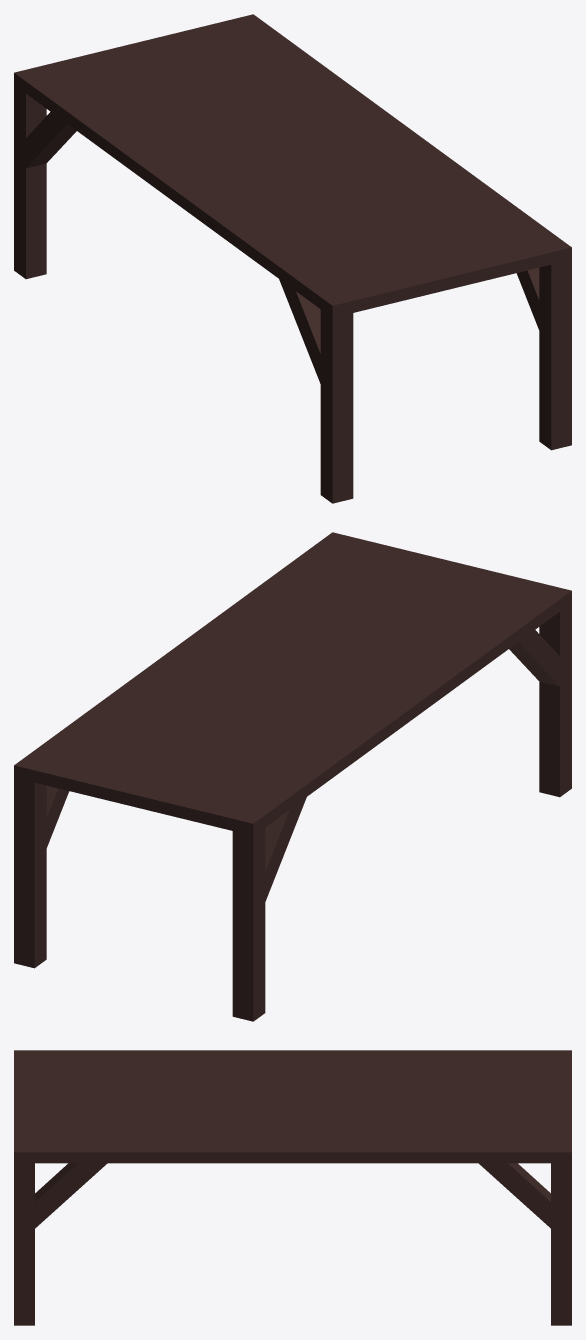
File: GrandeTable_14.fbx
The picture shows the model from 3 angles, top to bottom: view 1: azimuth 30°, elevation 25°; view 2: azimuth 150°, elevation 25°; view 3: azimuth 270°, elevation 25°; orthographic projection. The views are drawn at different scales.
Visible parts, largest first — view 1: pCube54, pCube52, pCube53, pCube50, pCube60, pCube56, pCube55; view 2: pCube54, pCube50, pCube51, pCube52, pCube60, pCube56, pCube59; view 3: pCube54, pCube51, pCube53, pCube55, pCube59.
Boxes of the visible parts, x1,y1,x2,y2 form: pCube54: (14,14,571,317); pCube52: (320,309,353,503); pCube53: (539,259,571,450); pCube50: (14,84,46,279); pCube60: (24,110,76,169); pCube56: (279,279,320,383); pCube55: (516,267,540,332); pCube54: (14,532,571,835); pCube50: (232,827,265,1021); pCube51: (14,777,46,968); pCube52: (539,602,571,797); pCube60: (264,794,307,904); pCube56: (509,630,559,686); pCube59: (45,785,69,851); pCube54: (14,1050,571,1163); pCube51: (551,1162,571,1325); pCube53: (14,1162,34,1325); pCube55: (33,1161,109,1229); pCube59: (477,1161,550,1228).
Size of the model in its own units: 50.24 by 39.67 by 116.
